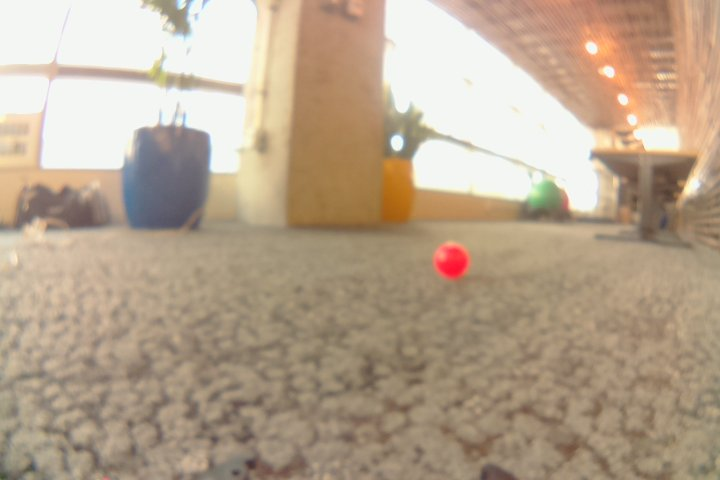ball: (659, 212, 668, 231)
